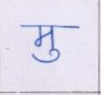u_matra: (31, 48, 61, 64)
